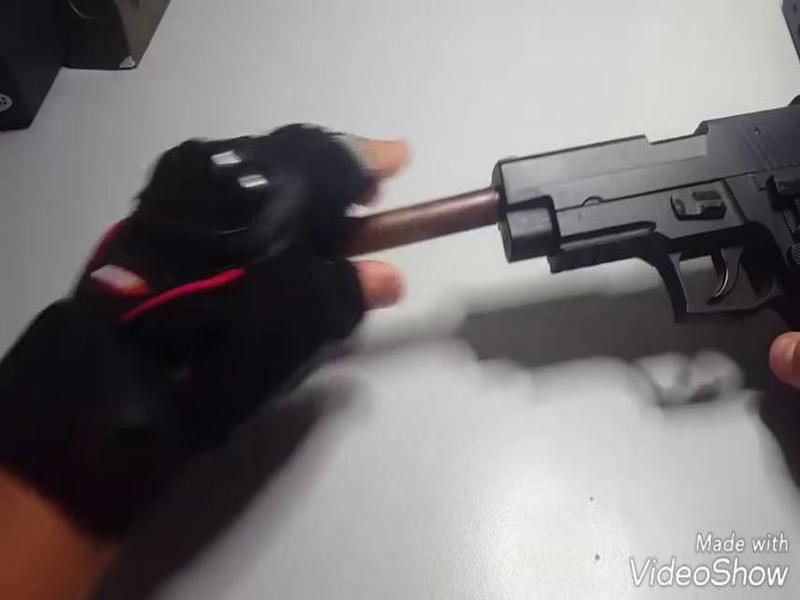Pistola: (496, 73, 800, 348)
